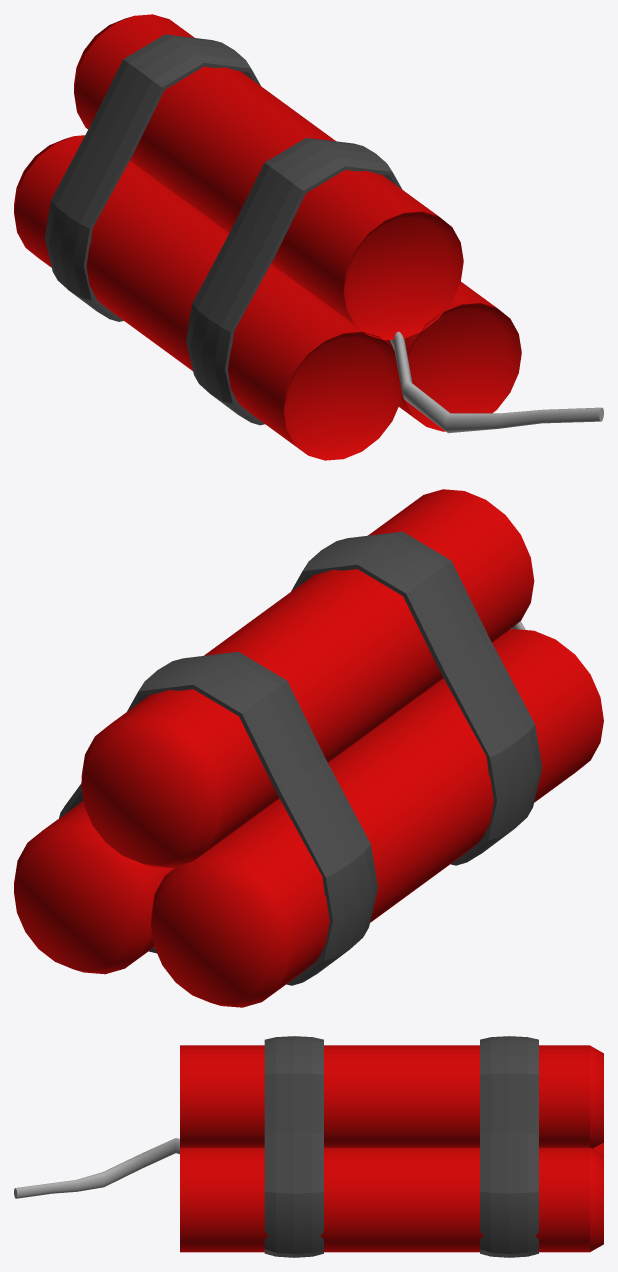
The model's file is TNT.fbx.
3 views of the same model, one above another, from view 1: azimuth 30°, elevation 25°; view 2: azimuth 150°, elevation 25°; view 3: azimuth 270°, elevation 25° (orthographic). The views are drawn at different scales.
Parts seen in each view (by area): view 1: pCylinder4, pCylinder1, pTorus1, pTorus2, pCylinder3, pCylinder2; view 2: pCylinder4, pCylinder1, pTorus2, pTorus1, pCylinder3; view 3: pCylinder3, pCylinder4, pTorus1, pTorus2, pCylinder2.
Part boxes in pixels (left/top/right/bottom): pCylinder4: left=74, top=14, right=463, bottom=340; pCylinder1: left=14, top=135, right=402, bottom=460; pTorus1: left=186, top=137, right=402, bottom=425; pTorus2: left=44, top=34, right=260, bottom=321; pCylinder3: left=383, top=282, right=521, bottom=431; pCylinder2: left=390, top=331, right=603, bottom=433; pCylinder4: left=81, top=489, right=534, bottom=867; pCylinder1: left=151, top=629, right=603, bottom=1007; pTorus2: left=59, top=651, right=378, bottom=985; pTorus1: left=291, top=531, right=542, bottom=865; pCylinder3: left=14, top=801, right=174, bottom=974; pCylinder3: left=180, top=1147, right=603, bottom=1252; pCylinder4: left=180, top=1045, right=603, bottom=1148; pTorus1: left=264, top=1036, right=323, bottom=1257; pTorus2: left=480, top=1036, right=538, bottom=1257; pCylinder2: left=14, top=1138, right=179, bottom=1198.
Bounding box in the file's own units: 5.06 × 4.74 × 13.43.
